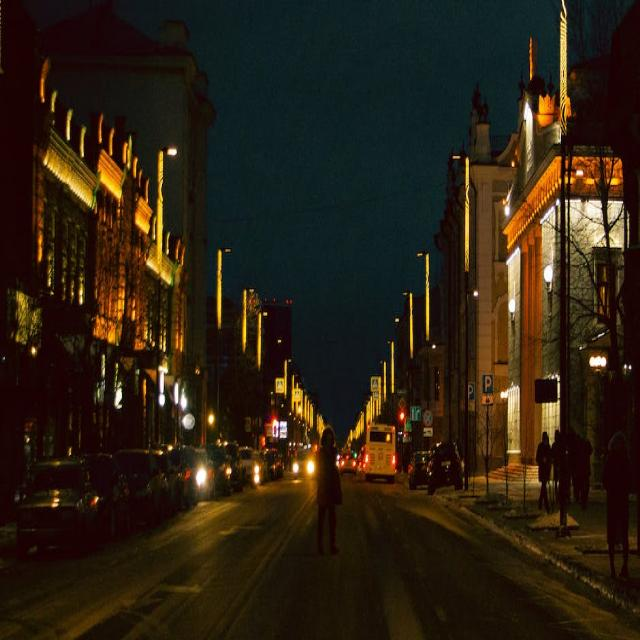no stopping: (423, 410, 433, 426)
